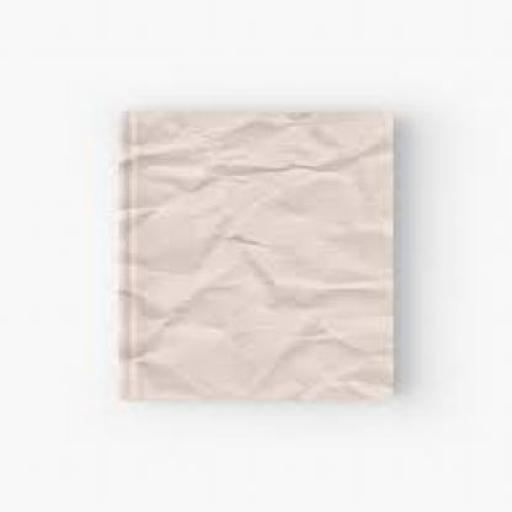paper: (116, 108, 396, 402)
